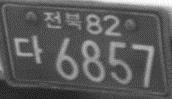2: (102, 13, 122, 38)
5: (107, 40, 133, 85)
6: (55, 37, 79, 81)
7: (130, 42, 156, 88)
8: (80, 39, 106, 83), (85, 12, 103, 36)
다: (13, 33, 44, 65)
전북_O: (42, 9, 83, 33)
